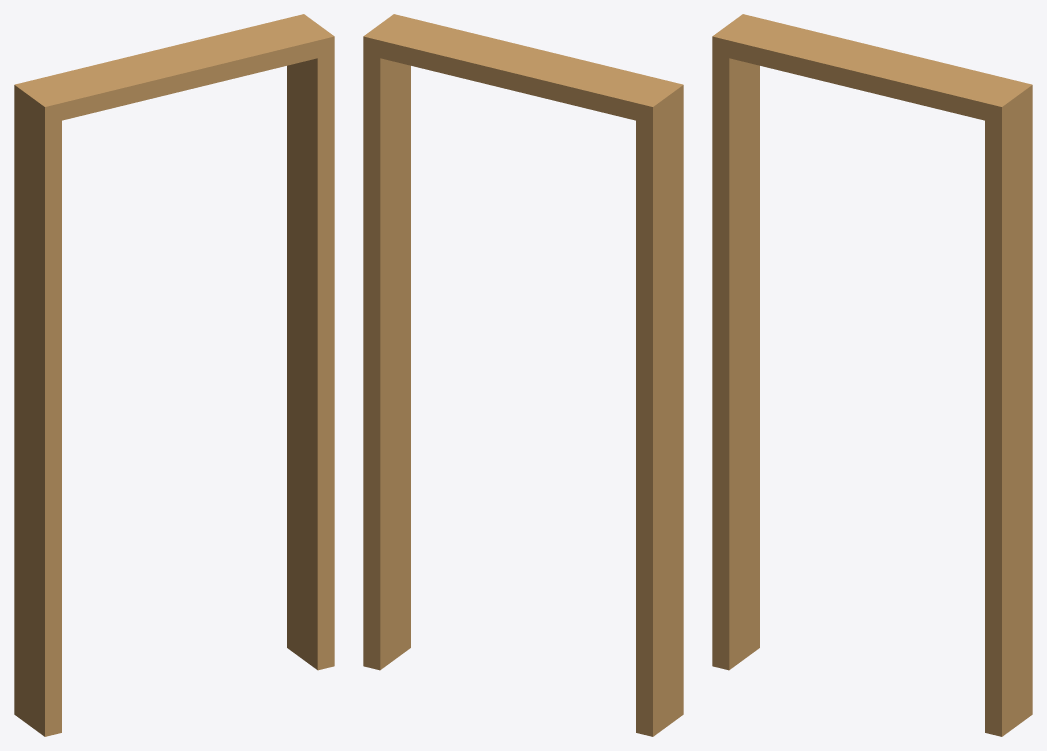
File: doorwayOpen.glb
3 renders of one model, left to right at view 1: azimuth 30°, elevation 25°; view 2: azimuth 150°, elevation 25°; view 3: azimuth 330°, elevation 25°, orthographic.
Size of the model in its own units: 4.86 by 10.1 by 0.891.
